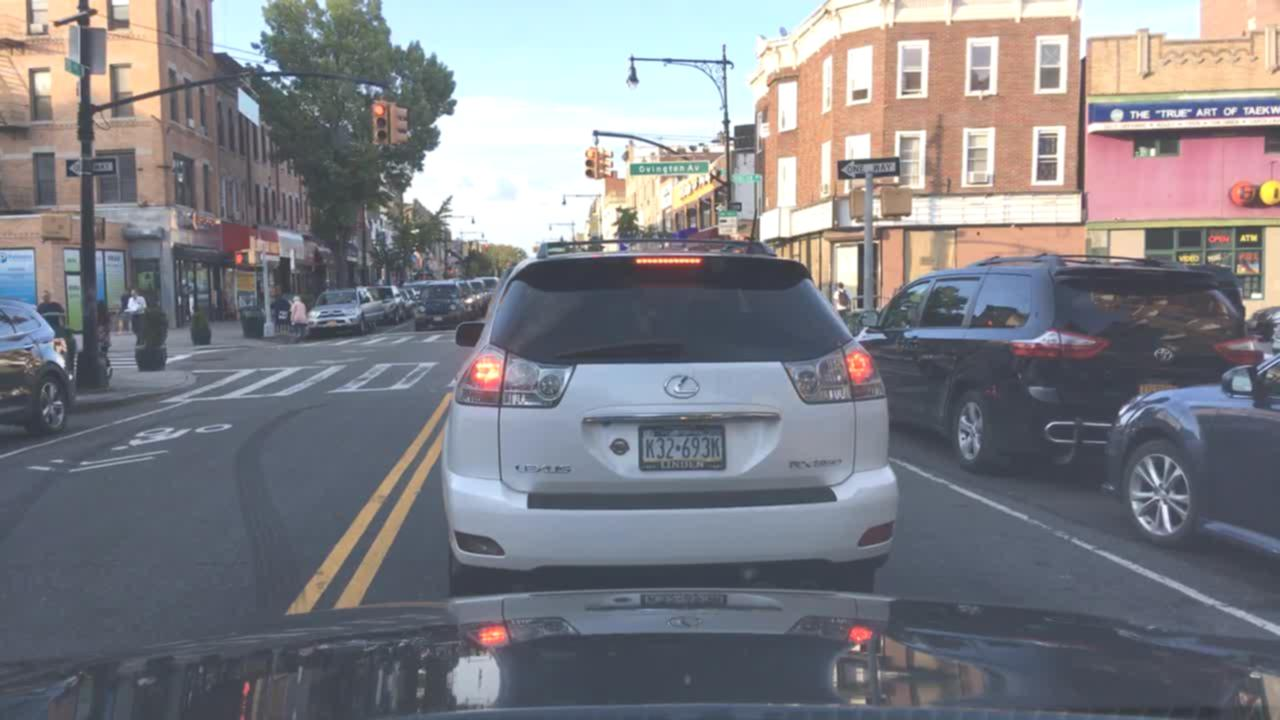Toyota: (1149, 342, 1178, 367)
lexus: (652, 365, 723, 411)
